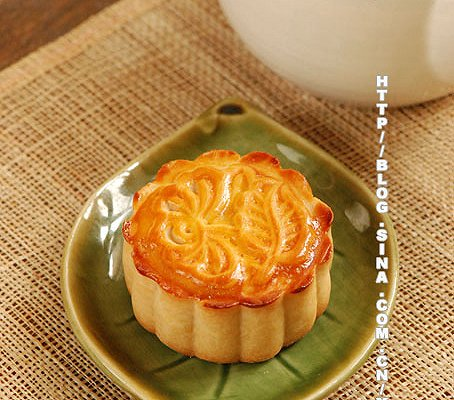MoonCake: (118, 149, 336, 363)
